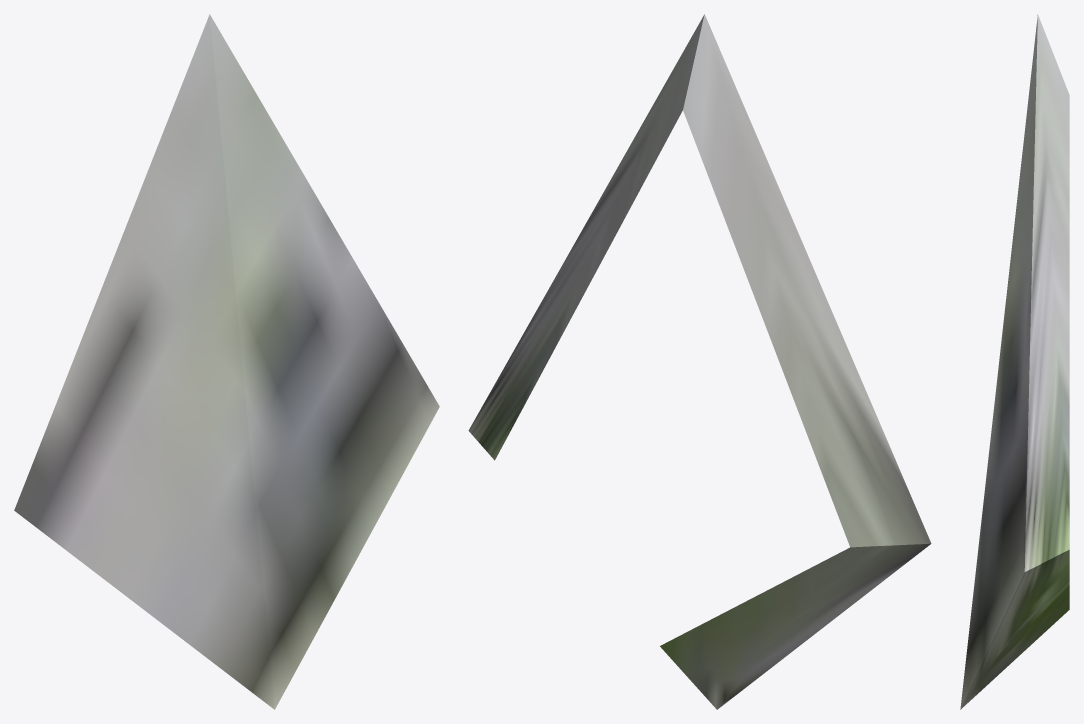
3 renders of one model, left to right at view 1: azimuth 30°, elevation 25°; view 2: azimuth 150°, elevation 25°; view 3: azimuth 270°, elevation 25°, orthographic. The views are drawn at different scales.
Size of the model in its own units: 0.1099 by 0.1664 by 0.0241.
Materials: 1 (1 with a texture image).
